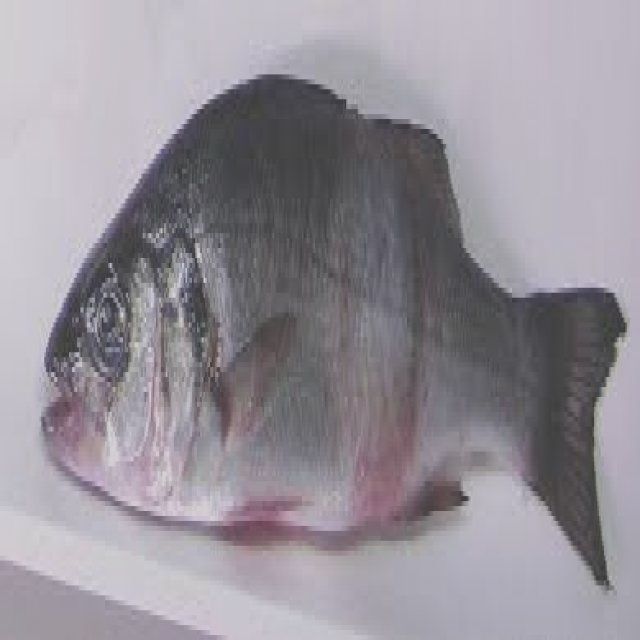EUS Disease: (41, 71, 634, 582), (44, 294, 621, 557)
